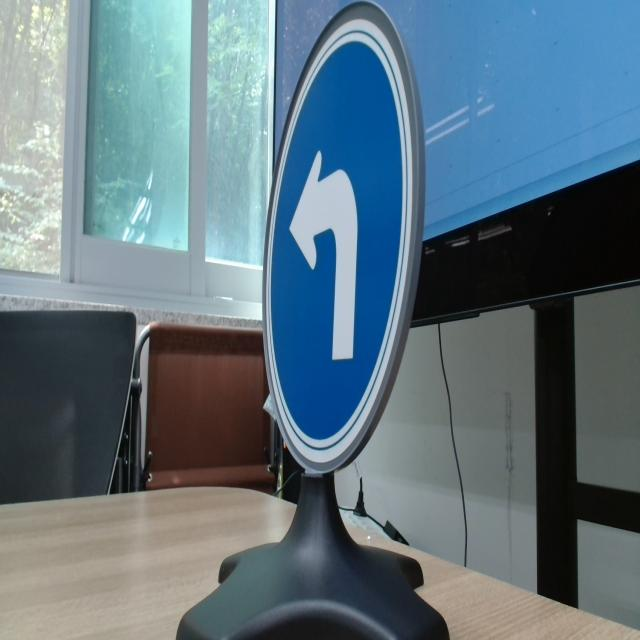left_direction: (254, 7, 424, 474)
